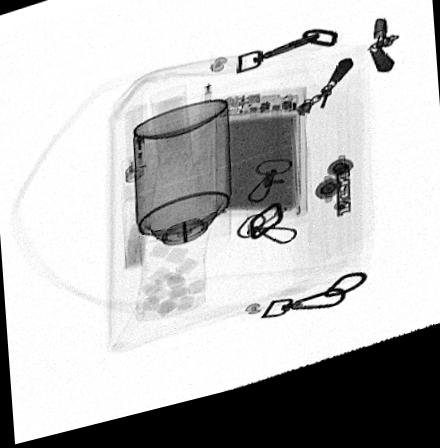Lighter: (123, 111, 149, 188)
Powerbank: (215, 101, 307, 234)
Sprayer: (134, 109, 231, 280)
